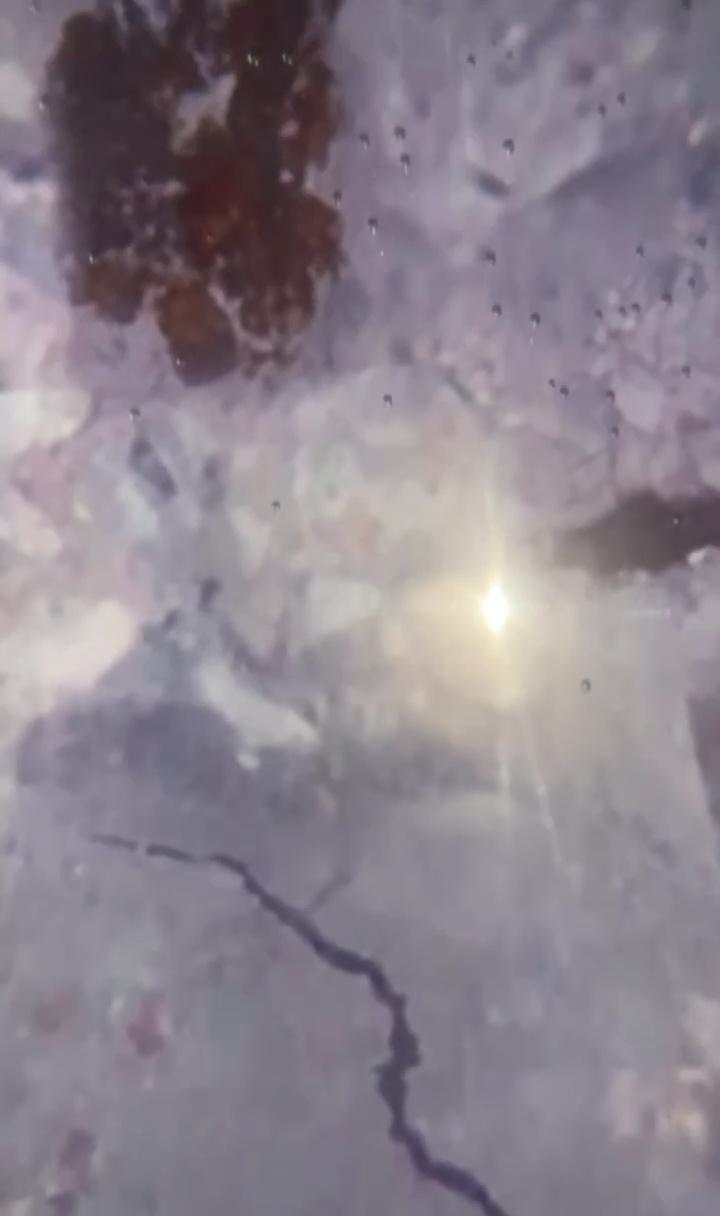Corrosion: (42, 1, 353, 385)
Crack: (85, 829, 511, 1216)
Exposed reinforcement: (513, 487, 720, 578)
